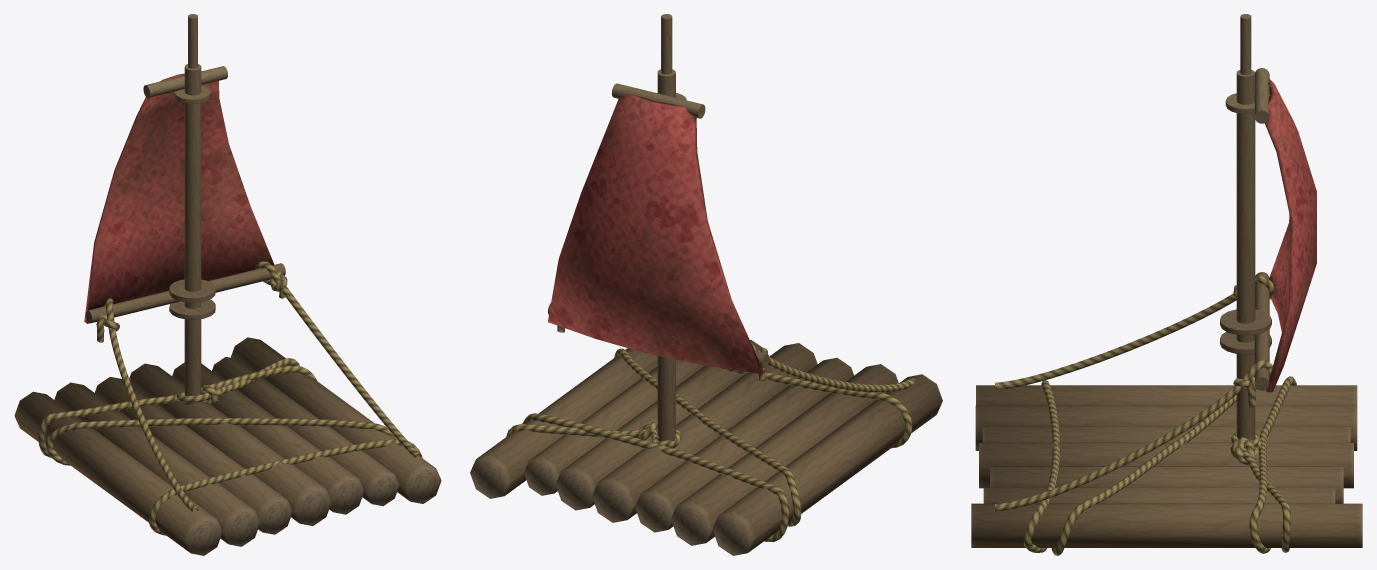
The model's file is Raft.fbx.
3 views of the same model, side by side, from view 1: azimuth 30°, elevation 25°; view 2: azimuth 150°, elevation 25°; view 3: azimuth 270°, elevation 25° (orthographic). The views are drawn at different scales.
Parts seen in each view (by area): view 1: Raft; view 2: Raft; view 3: Raft.
Part boxes in pixels (bbox=[...]): Raft: bbox=[14, 14, 441, 555]; Raft: bbox=[470, 14, 942, 555]; Raft: bbox=[971, 14, 1362, 555].
Bounding box in the file's own units: 318 × 493 × 365.
